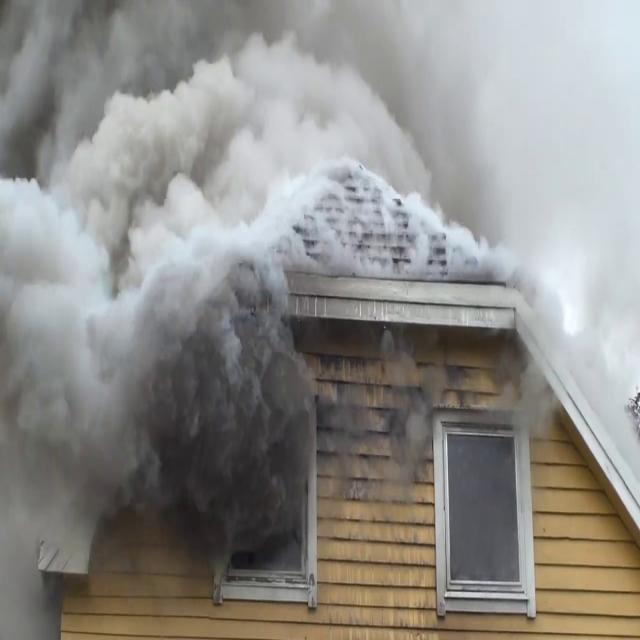Smoke: (0, 2, 334, 576)
